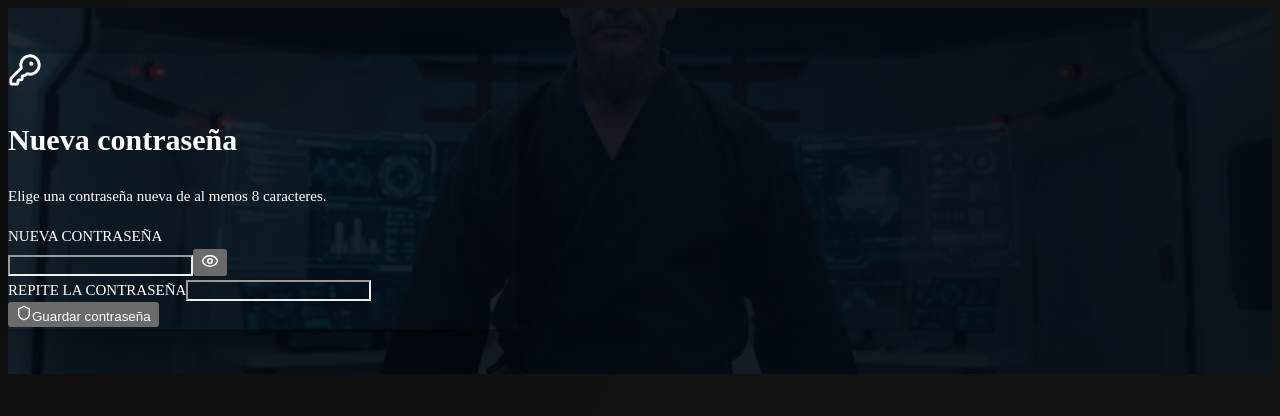
a failed update keeps the form so the user can try again, with a Spanish message
The image size is (1280, 416).
Type "ClaveNueva123" into the password field labelled "NUEVA CONTRASEÑA". click: (100, 265)
box: [8, 255, 193, 276]
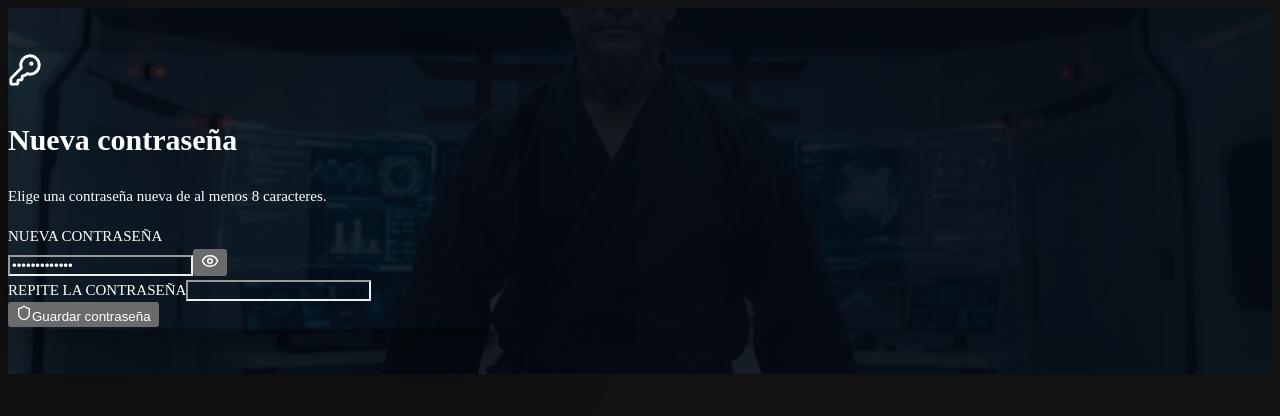
Type "ClaveNueva123" into the password field labelled "REPITE LA CONTRASEÑA". click: (279, 290)
box: [186, 280, 371, 301]
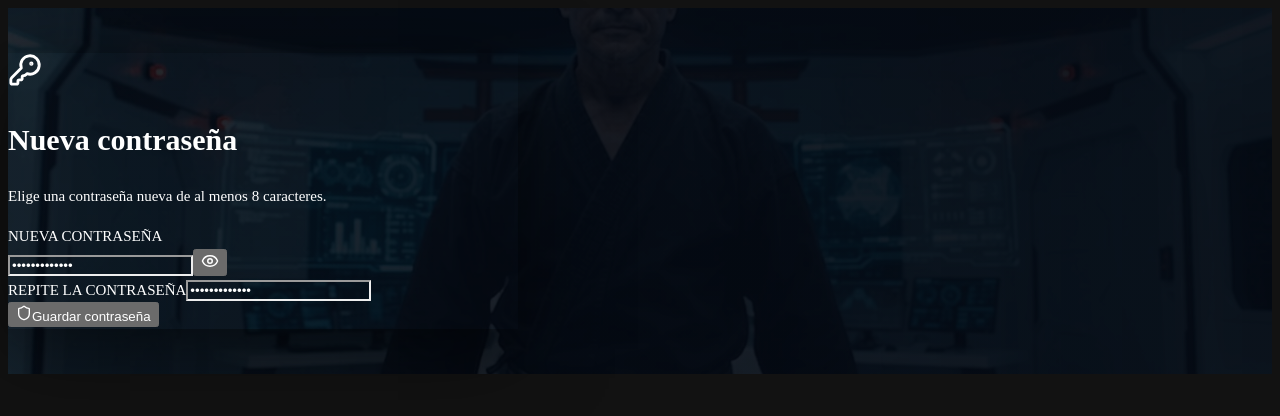
Click the button "Guardar contraseña". click: (83, 315)
box: [8, 302, 158, 327]
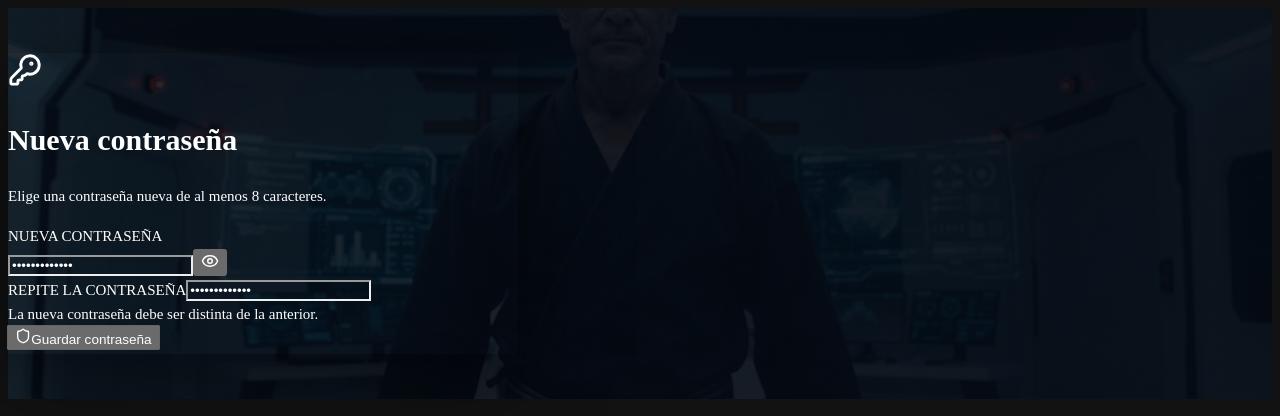
Check: the message does not show "should be different", box [8, 306, 318, 322]
Check: the message shows "distinta de la anterior", box [8, 306, 318, 322]
